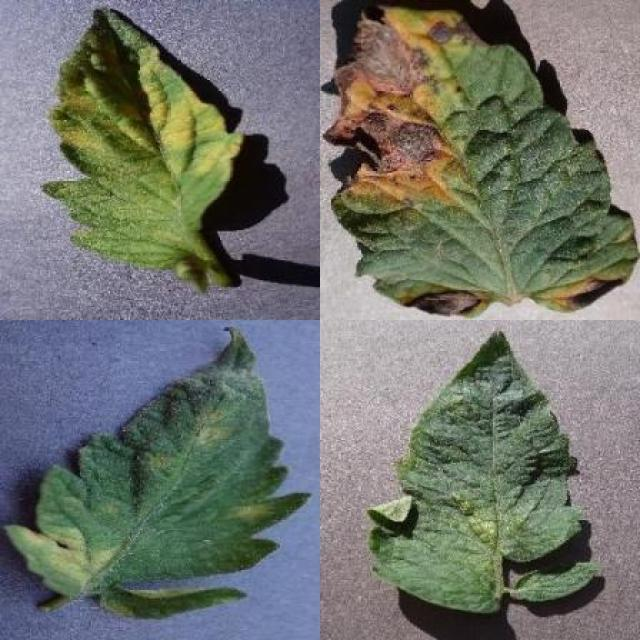Early Blight: (327, 0, 639, 320)
Leaf Mold: (7, 325, 314, 622), (42, 5, 245, 268)
Spider Mites: (368, 330, 582, 613)
